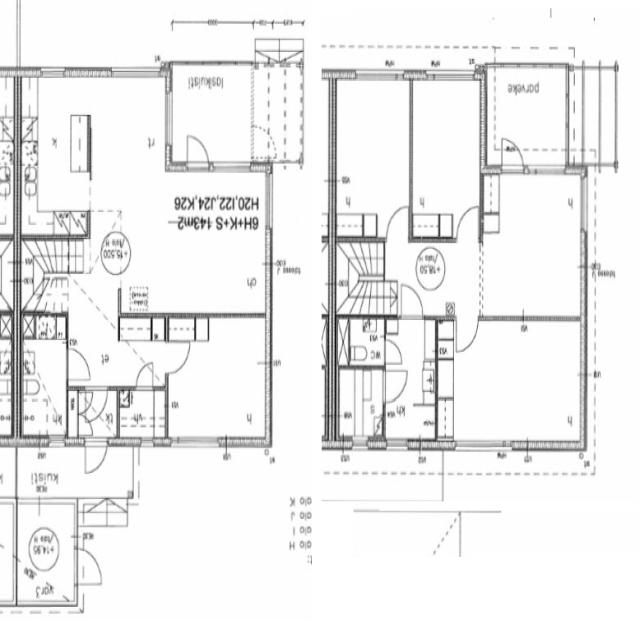door: (72, 542, 108, 592), (396, 280, 426, 323), (63, 343, 93, 386), (164, 336, 195, 377), (380, 366, 410, 408), (383, 202, 412, 245), (183, 131, 212, 172), (498, 134, 526, 176), (454, 203, 482, 243), (82, 385, 111, 423), (454, 315, 481, 355), (250, 122, 277, 162), (84, 437, 109, 477), (133, 360, 156, 393), (75, 387, 96, 422), (382, 336, 404, 367), (254, 50, 274, 70)
window: (448, 434, 514, 456), (170, 432, 224, 452), (110, 64, 163, 82), (577, 171, 591, 237), (353, 68, 405, 85), (263, 170, 276, 236), (426, 68, 478, 84), (162, 87, 175, 148), (524, 162, 568, 179), (211, 159, 253, 175), (382, 436, 412, 454), (345, 435, 372, 453), (39, 64, 67, 80), (46, 432, 66, 450), (137, 435, 156, 450)
zone: (19, 76, 169, 240), (441, 318, 585, 449), (481, 170, 585, 322), (169, 167, 269, 314), (164, 316, 270, 446), (332, 74, 412, 241), (410, 75, 484, 240), (18, 237, 172, 310), (484, 63, 570, 169), (171, 64, 252, 167), (382, 318, 437, 444), (15, 499, 78, 608), (20, 318, 68, 441), (334, 368, 384, 444), (116, 387, 168, 444), (336, 316, 387, 369), (0, 501, 16, 610), (71, 544, 108, 589), (437, 320, 455, 359)
